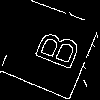B: (25, 24, 82, 73)
